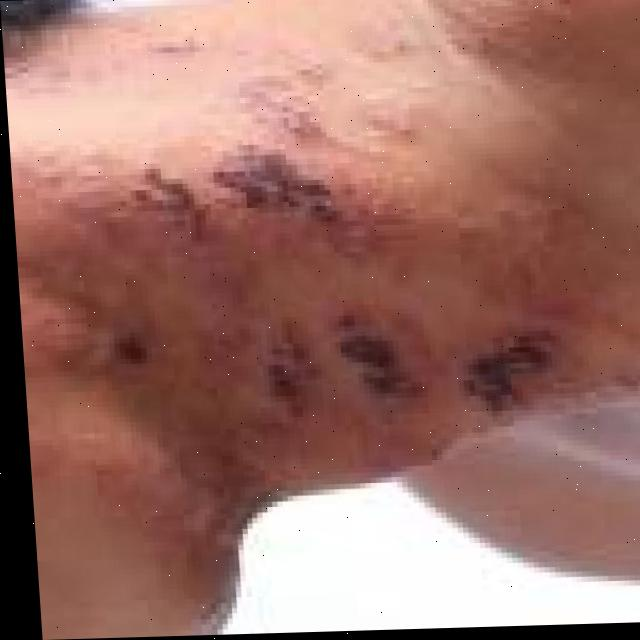Shingles: (142, 64, 349, 221), (235, 312, 530, 417)
